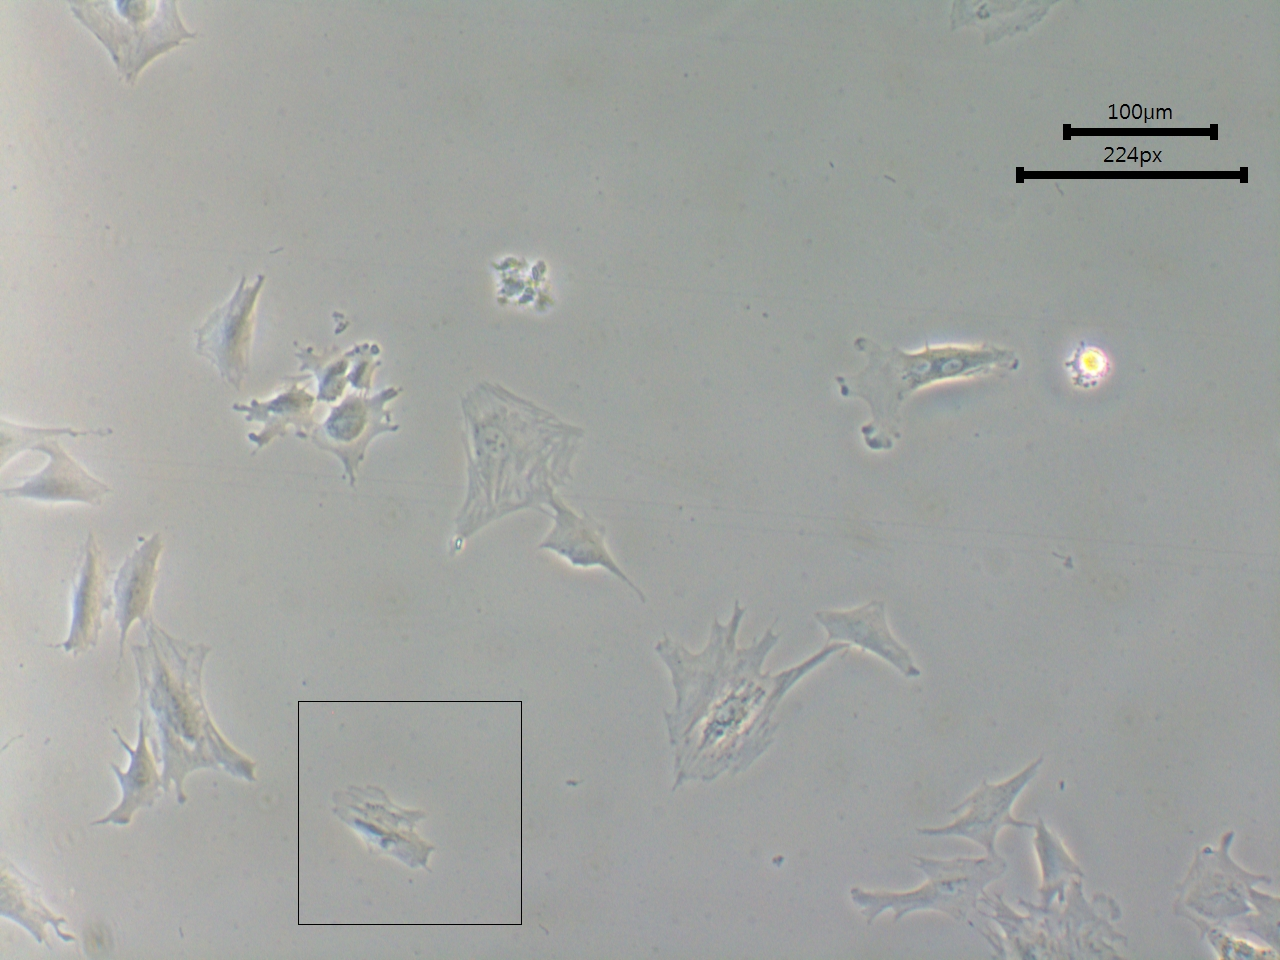dividing: (835, 326, 1036, 456), (145, 640, 265, 817)
medium-polygonal: (822, 838, 1011, 958)
medium-spread: (639, 605, 818, 798), (450, 377, 582, 543)
small-polygonal: (820, 605, 924, 681), (58, 541, 107, 652), (114, 538, 162, 639), (1032, 822, 1084, 899)
small-spread: (327, 781, 443, 877)
